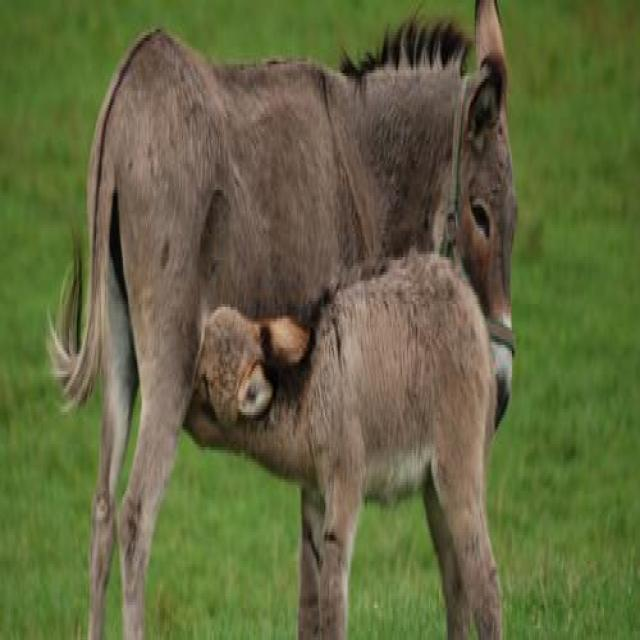Donkey: (50, 3, 516, 640), (183, 253, 503, 640)
